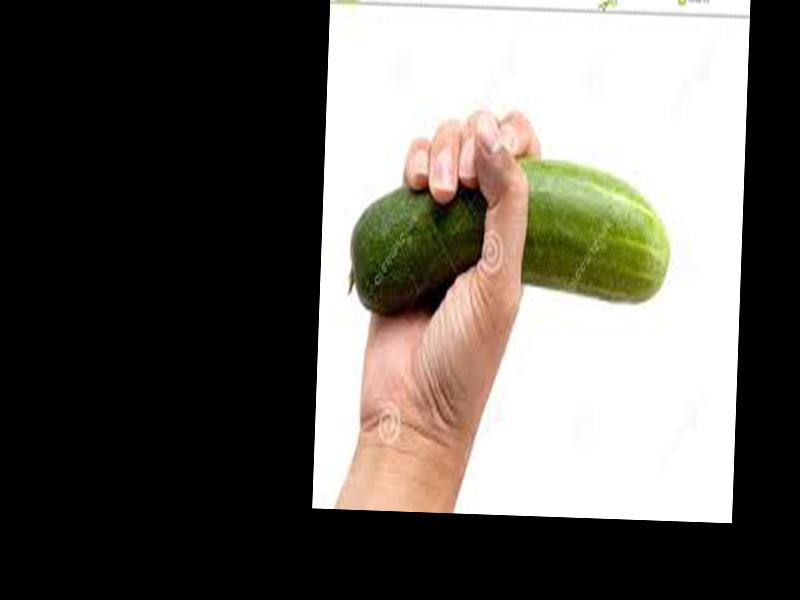Cucumber: (350, 149, 673, 323)
